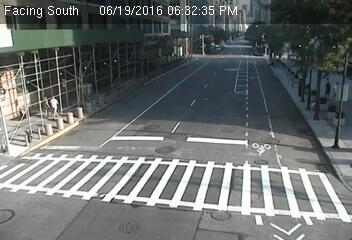neg: (135, 66, 159, 99), (7, 106, 28, 134), (59, 143, 79, 168), (258, 58, 275, 81), (99, 56, 116, 78), (65, 61, 80, 80), (24, 54, 38, 73), (171, 142, 183, 158)
pos: (327, 78, 347, 104), (48, 94, 65, 117), (33, 94, 50, 117), (313, 76, 330, 98)
